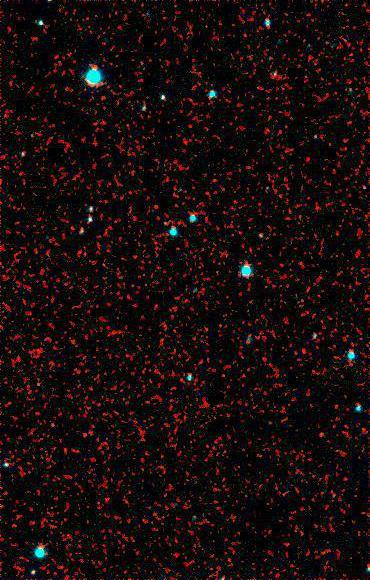star: (305, 419, 335, 449)
